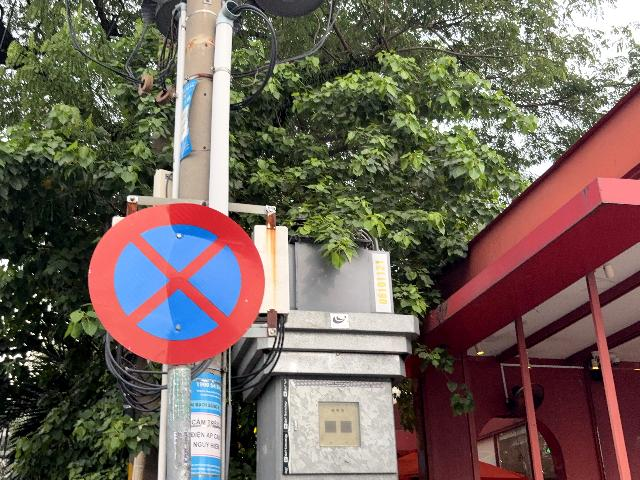cam-dung-va-do-xe: (89, 202, 265, 367)
